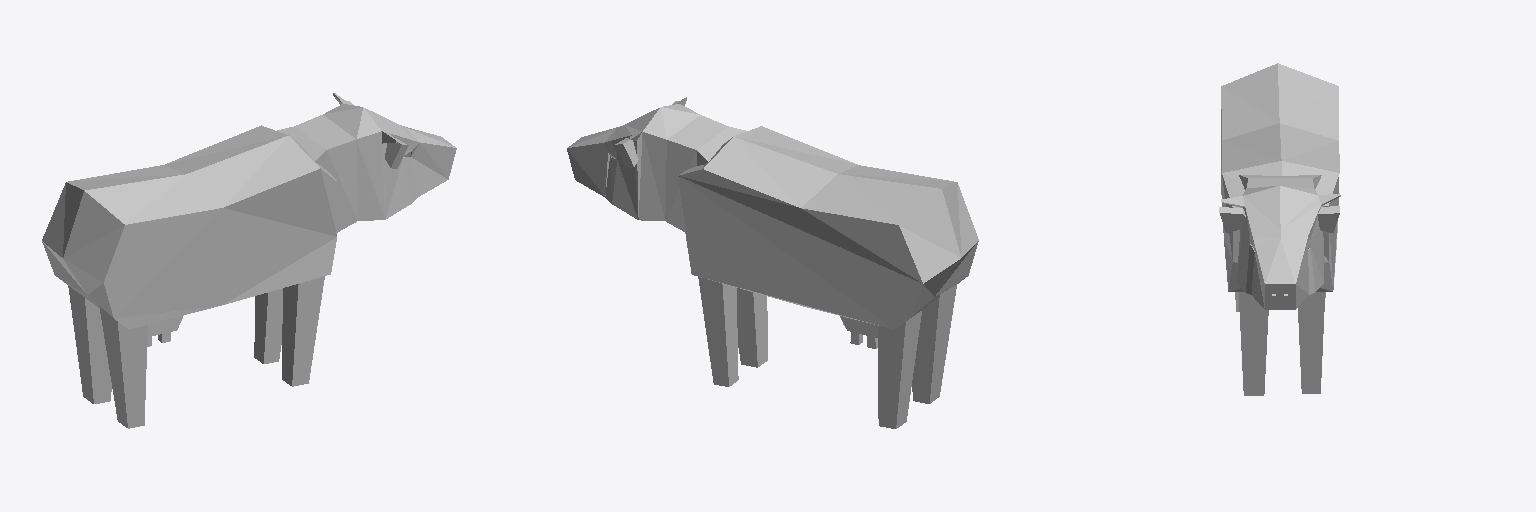
Rendered from cow.obj.
3 views of the same model, side by side, from view 1: azimuth 30°, elevation 25°; view 2: azimuth 150°, elevation 25°; view 3: azimuth 270°, elevation 25° (orthographic).
Visible parts, largest first — view 1: Cube.001; view 2: Cube.001; view 3: Cube.001.
Part boxes in pixels (x1,y1,x2,y2): Cube.001: (42,93,456,428); Cube.001: (567,97,978,428); Cube.001: (1219,63,1340,395).
Size of the model in its own units: 6.1 by 3.7 by 1.65.